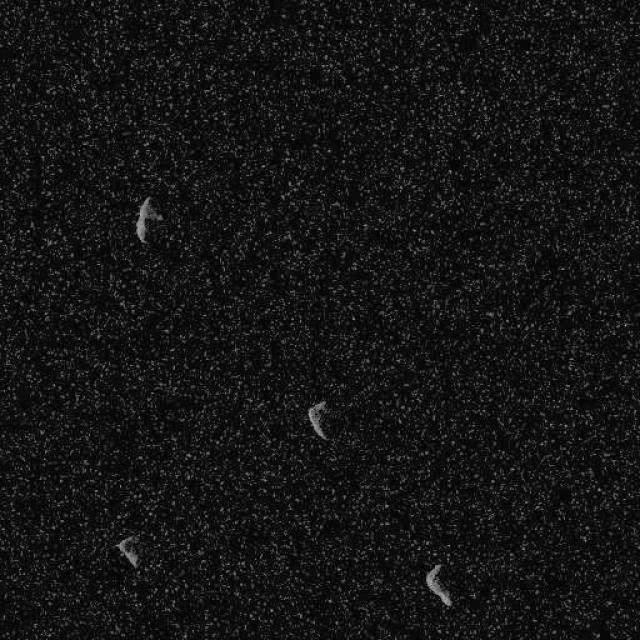D2: (134, 195, 164, 244), (423, 562, 452, 608), (306, 399, 329, 441), (115, 534, 141, 568)
